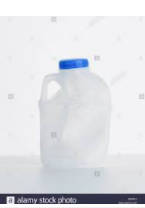Bottle: (40, 59, 111, 170)
